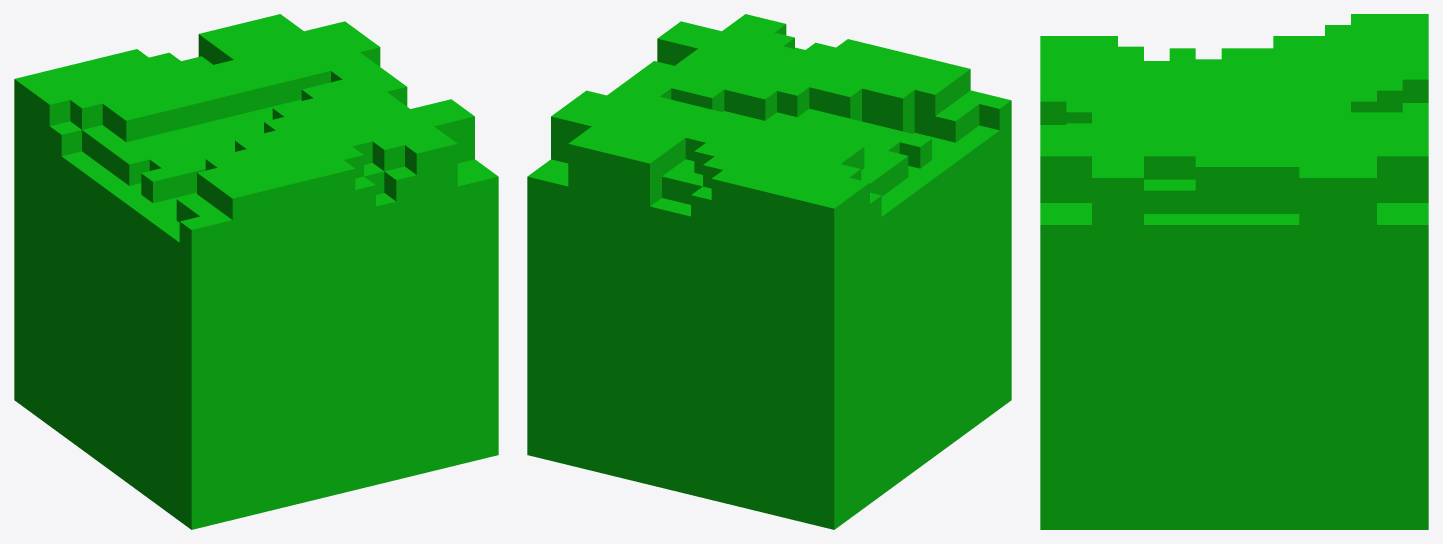
File: green.obj
3 views of the same model, side by side, from view 1: azimuth 30°, elevation 25°; view 2: azimuth 150°, elevation 25°; view 3: azimuth 270°, elevation 25° (orthographic). The views are drawn at different scales.
Visible parts, largest first — view 1: Cube; view 2: Cube; view 3: Cube.
Part boxes in pixels (left/top/right/bottom): Cube: left=14, top=14, right=498, bottom=529; Cube: left=527, top=14, right=1011, bottom=529; Cube: left=1040, top=14, right=1428, bottom=529.
Bounding box in the file's own units: 2.08 × 2.08 × 2.08.
